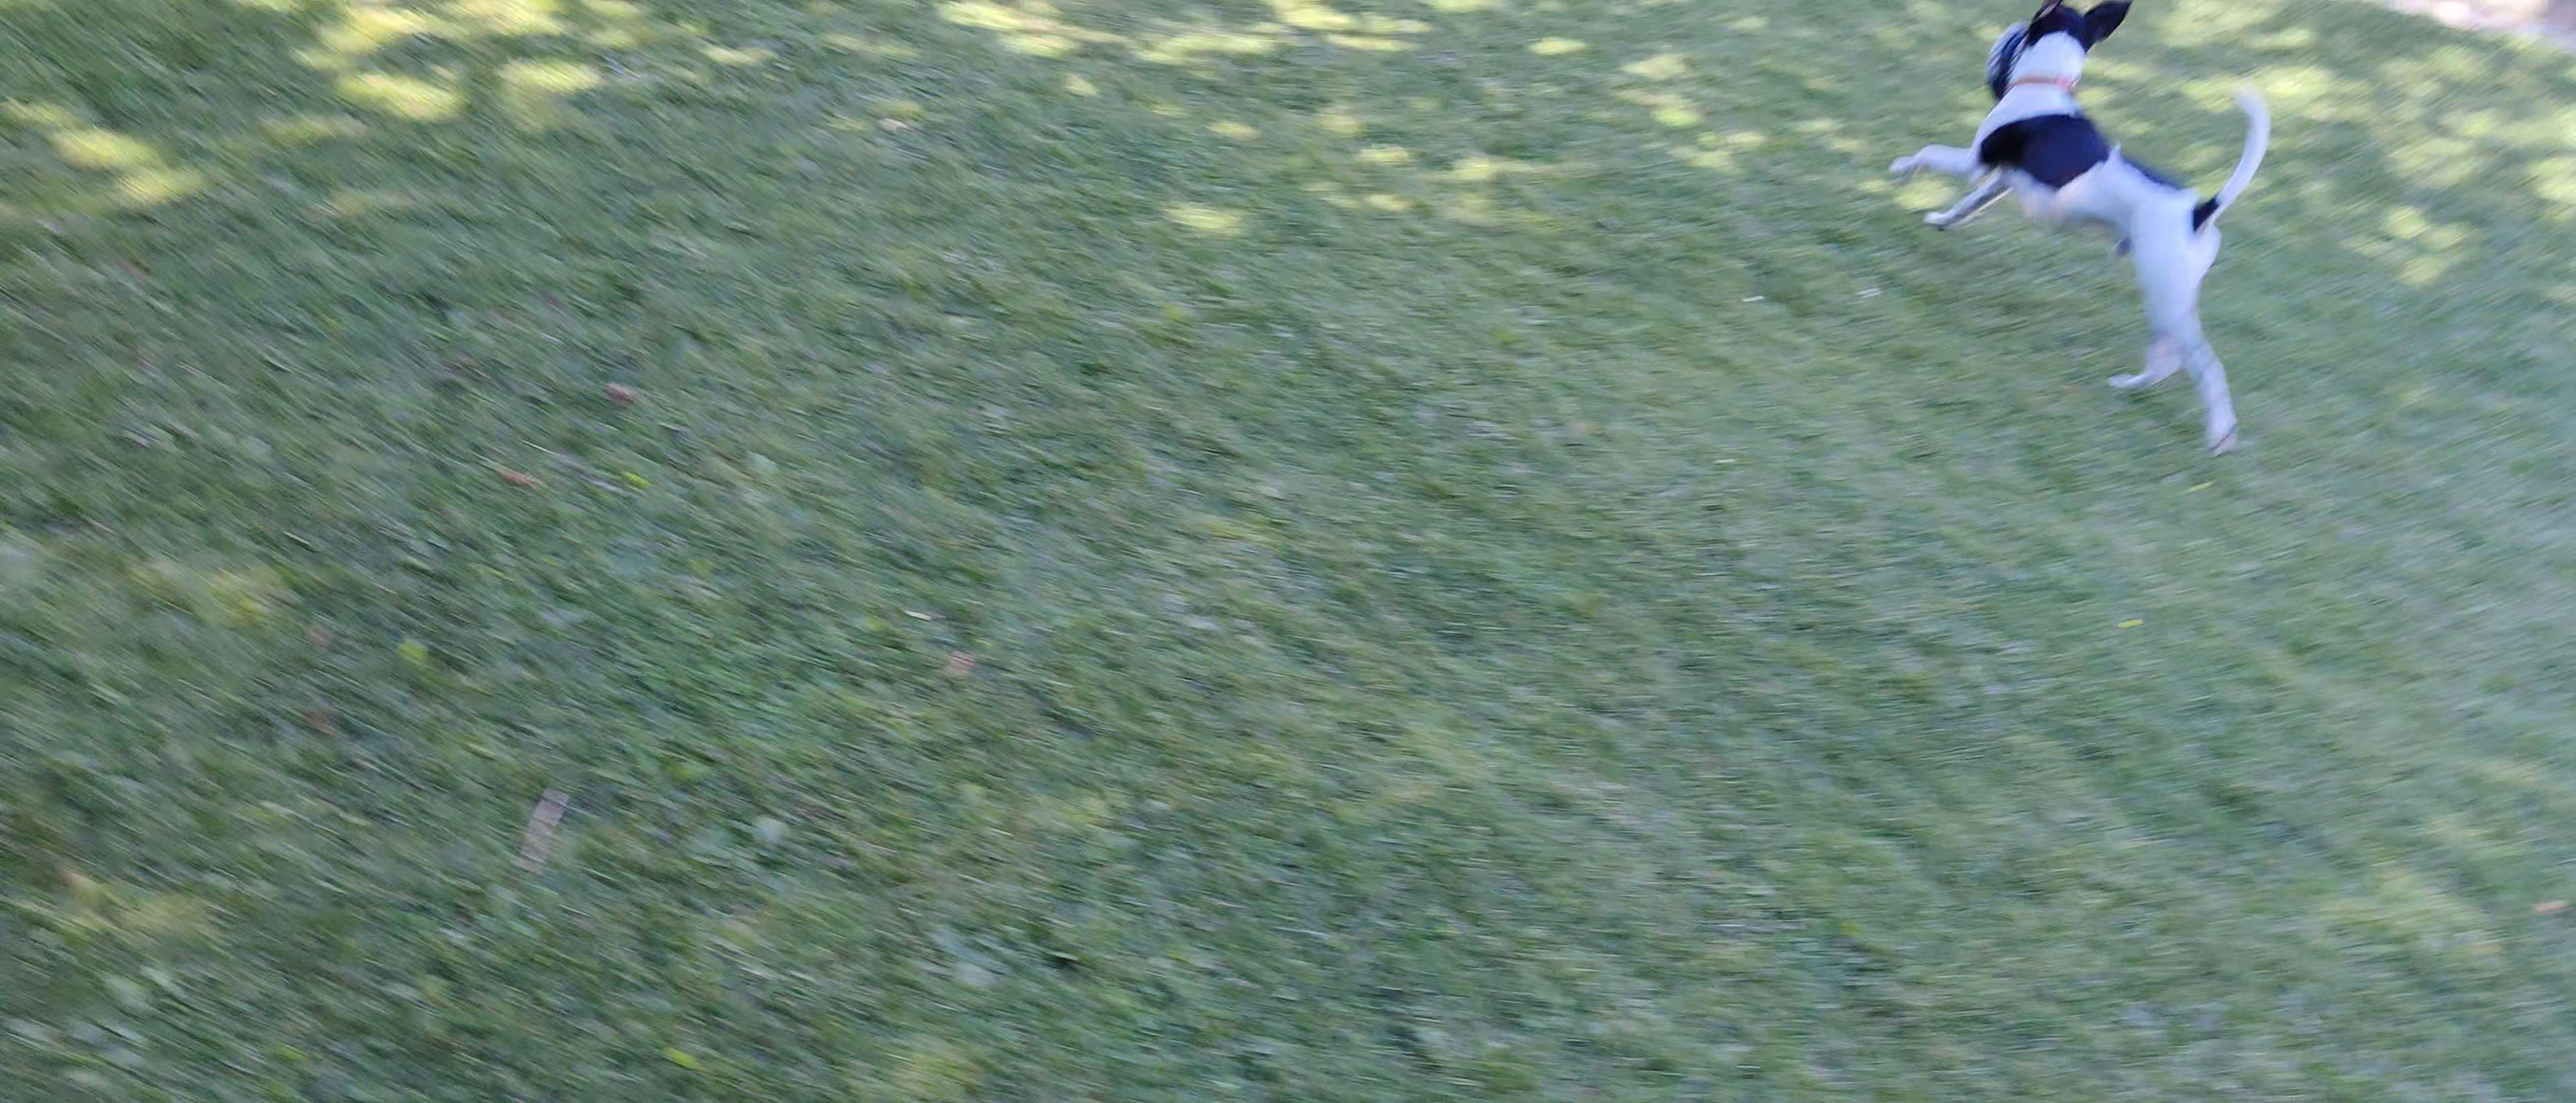Dog: (1884, 0, 2279, 460)
